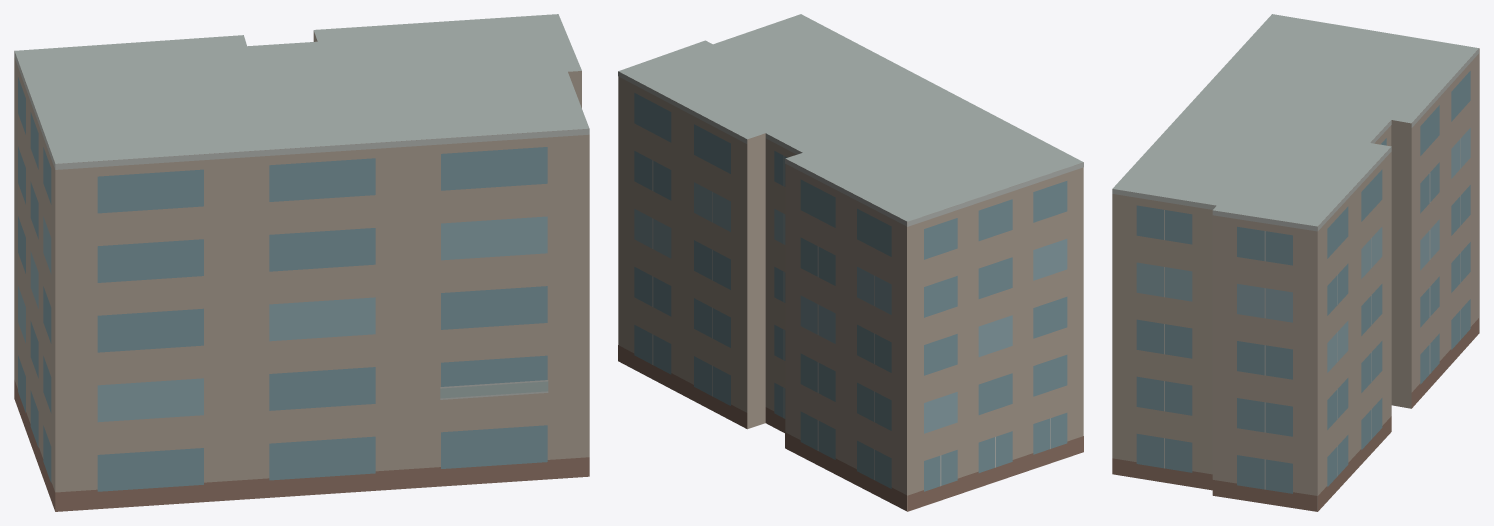
Rendered from survey-upis-32981431.glb.
3 views of the same model, side by side, from view 1: azimuth 30°, elevation 25°; view 2: azimuth 150°, elevation 25°; view 3: azimuth 270°, elevation 25° (orthographic). The views are drawn at different scales.
Visible parts, largest first — view 1: survey-upis-32981431.tmp; view 2: survey-upis-32981431.tmp; view 3: survey-upis-32981431.tmp.
Part boxes in pixels (box(x1,y1,x2,y2)): survey-upis-32981431.tmp: box(14, 14, 589, 511); survey-upis-32981431.tmp: box(618, 14, 1083, 511); survey-upis-32981431.tmp: box(1112, 14, 1479, 511).
Size of the model in its own units: 22.37 by 14 by 16.34.
